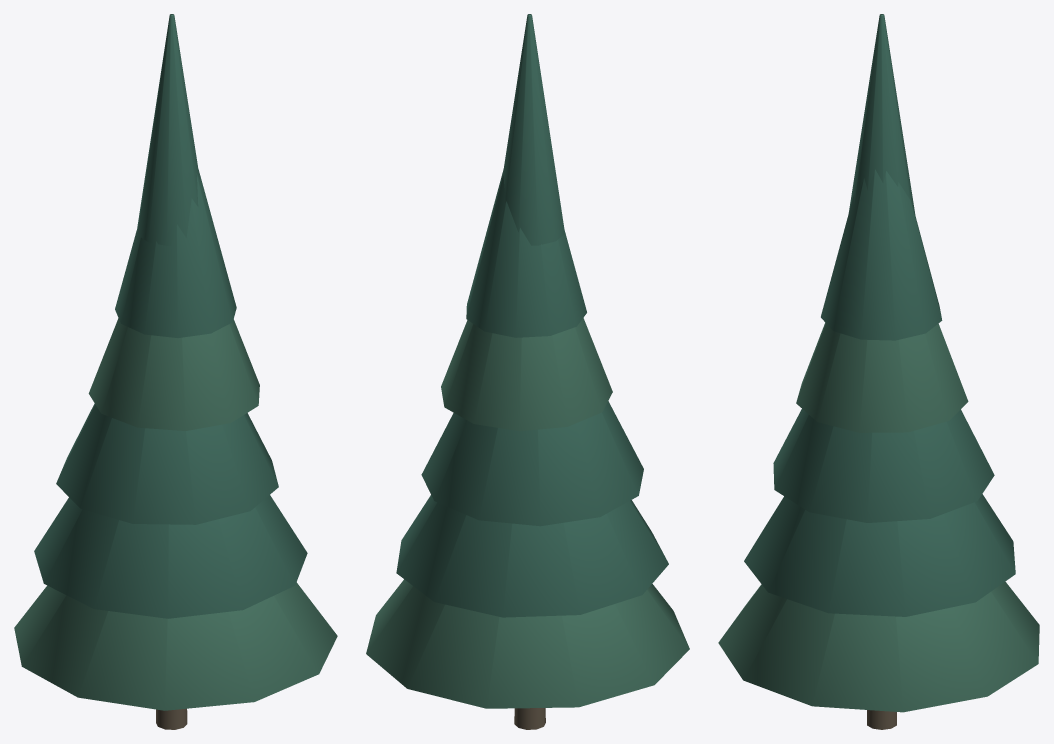
The model's file is snow_pine_tree_variant_01.glb.
3 views of the same model, side by side, from view 1: azimuth 30°, elevation 25°; view 2: azimuth 150°, elevation 25°; view 3: azimuth 270°, elevation 25° (orthographic).
Visible parts, largest first — view 1: static_leaf_pine, static_leaf_pine_light, trunk; view 2: static_leaf_pine, static_leaf_pine_light, trunk; view 3: static_leaf_pine, static_leaf_pine_light, trunk.
Boxes of the visible parts, x1=… form: static_leaf_pine: x1=34, y1=14, x2=307, y2=618; static_leaf_pine_light: x1=14, y1=318, x2=337, y2=710; trunk: x1=156, y1=708, x2=187, y2=729; static_leaf_pine: x1=396, y1=14, x2=668, y2=617; static_leaf_pine_light: x1=366, y1=318, x2=689, y2=708; trunk: x1=514, y1=708, x2=545, y2=729; static_leaf_pine: x1=744, y1=14, x2=1015, y2=616; static_leaf_pine_light: x1=718, y1=322, x2=1039, y2=712; trunk: x1=867, y1=710, x2=896, y2=729.
Size of the model in its own units: 4.08 by 9.85 by 4.05.
